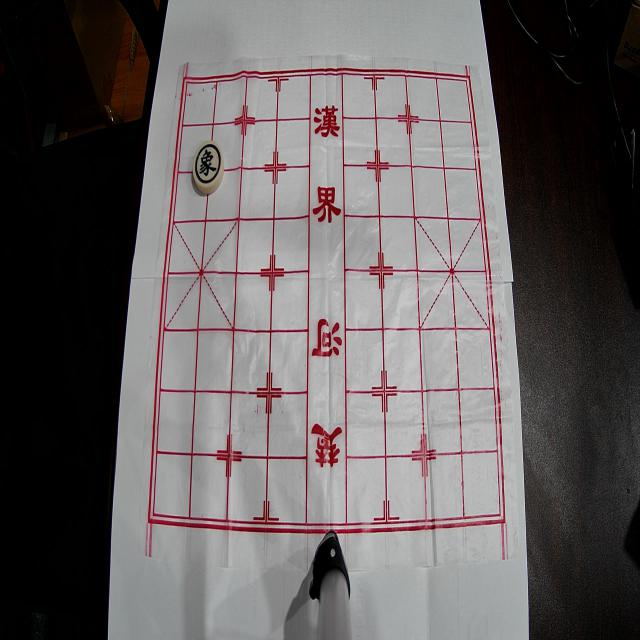black-elephant: (193, 140, 224, 194)
